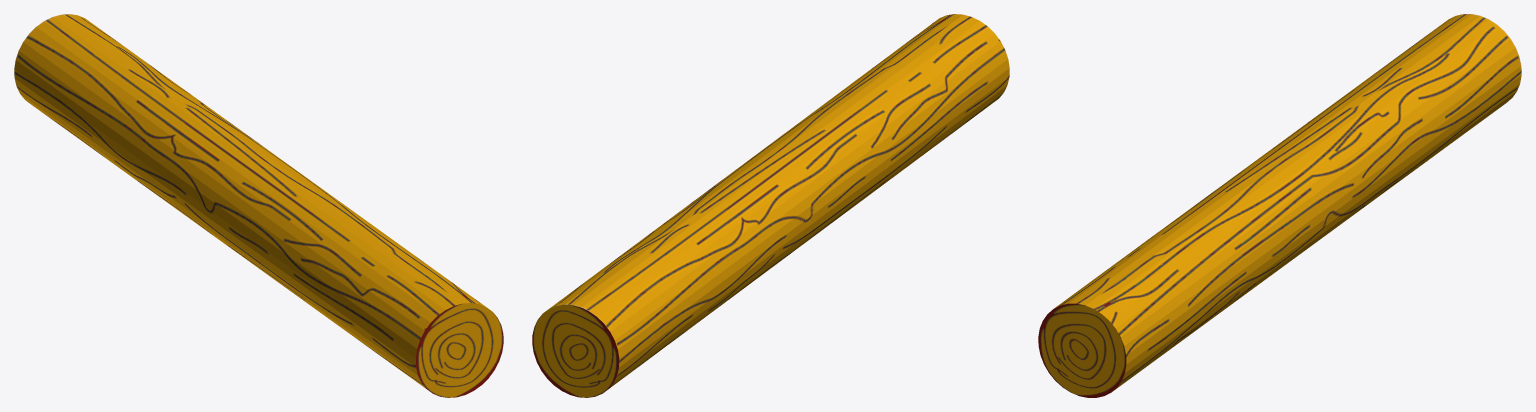
The model's file is Balk.fbx.
3 renders of one model, left to right at view 1: azimuth 30°, elevation 25°; view 2: azimuth 150°, elevation 25°; view 3: azimuth 330°, elevation 25°, orthographic.
Parts seen in each view (by area): view 1: Sticks; view 2: Sticks; view 3: Sticks.
Boxes of the visible parts, box(x1,y1,x2,y2) form: Sticks: box(14, 14, 503, 397); Sticks: box(532, 14, 1009, 397); Sticks: box(1038, 14, 1521, 397).
Size of the model in its own units: 15.21 by 15.12 by 116.
